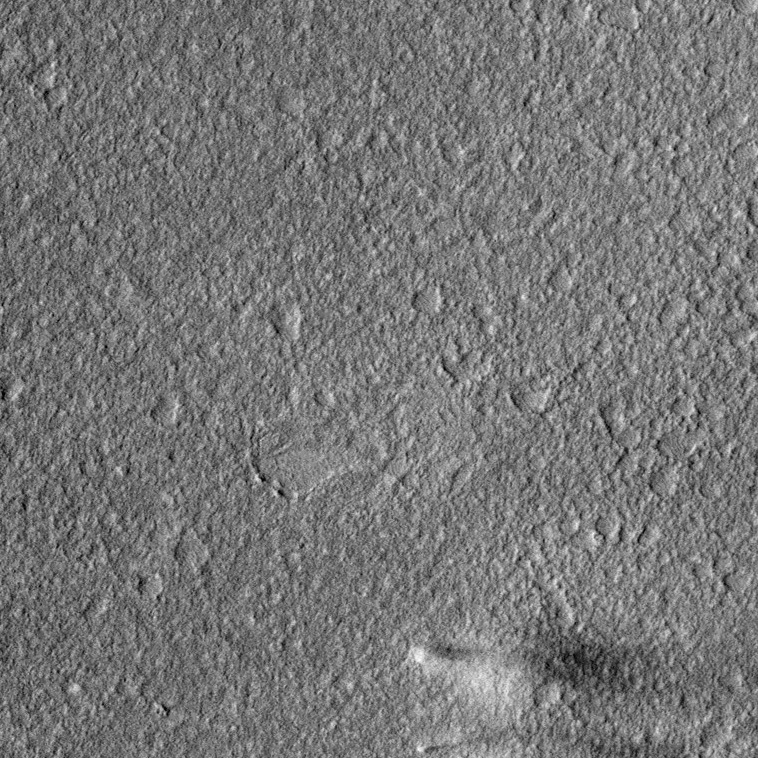dust_devil: (405, 635, 661, 706), (415, 720, 683, 758)
